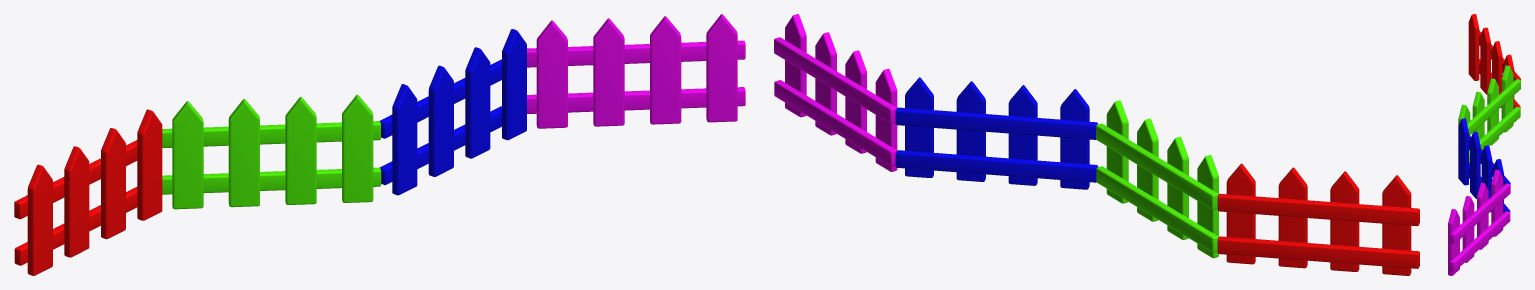
Rendered from fence.gltf.
3 renders of one model, left to right at view 1: azimuth 30°, elevation 25°; view 2: azimuth 150°, elevation 25°; view 3: azimuth 270°, elevation 25°, orthographic. The views are drawn at different scales.
Visible parts, largest first — view 1: ChamferBox008, ChamferBox004, ChamferBox007, ChamferBox003; view 2: ChamferBox007, ChamferBox003, ChamferBox004, ChamferBox008; view 3: ChamferBox004, ChamferBox008, ChamferBox007, ChamferBox003.
Boxes of the visible parts, bbox=[...] form: ChamferBox008: bbox=[162, 94, 381, 209]; ChamferBox004: bbox=[527, 14, 745, 128]; ChamferBox007: bbox=[14, 109, 162, 275]; ChamferBox003: bbox=[379, 29, 526, 195]; ChamferBox007: bbox=[1217, 163, 1419, 275]; ChamferBox003: bbox=[895, 77, 1098, 189]; ChamferBox004: bbox=[774, 14, 897, 171]; ChamferBox008: bbox=[1096, 100, 1218, 258]; ChamferBox004: bbox=[1448, 169, 1510, 275]; ChamferBox008: bbox=[1458, 65, 1520, 163]; ChamferBox007: bbox=[1468, 14, 1520, 108]; ChamferBox003: bbox=[1458, 118, 1510, 212].
Size of the model in its own units: 0.1721 by 0.0243 by 0.0253.
